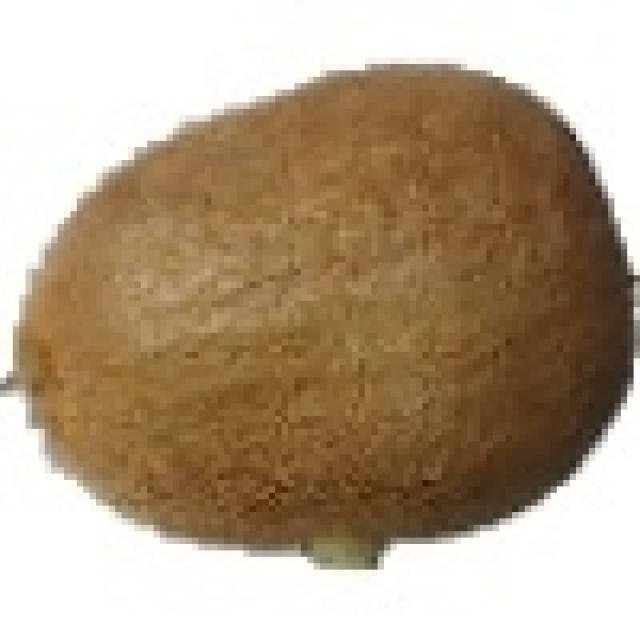kiwi: (13, 58, 621, 550)
